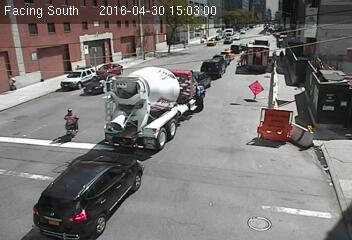neg: (216, 127, 249, 171), (55, 106, 83, 144), (183, 77, 209, 112), (100, 169, 126, 204), (245, 45, 271, 79), (267, 107, 291, 139), (295, 66, 319, 97), (114, 66, 137, 97), (73, 36, 93, 63), (175, 24, 192, 47), (25, 34, 38, 52)
pos: (4, 71, 20, 93)
